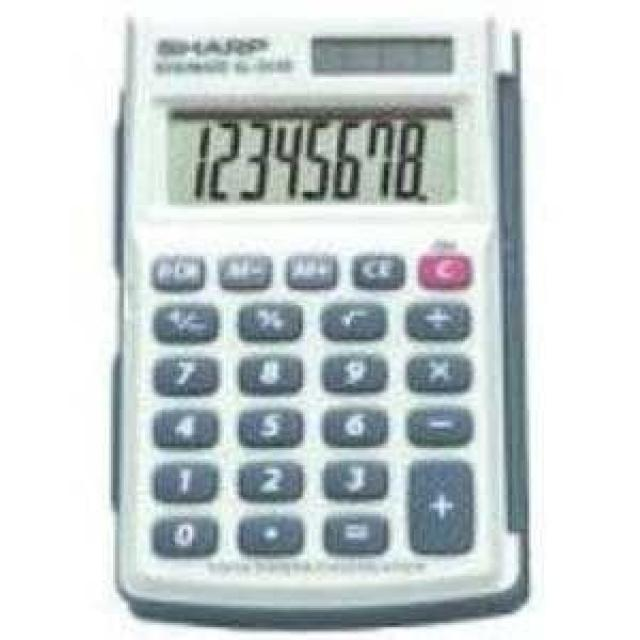Calculator: (115, 15, 527, 625)
